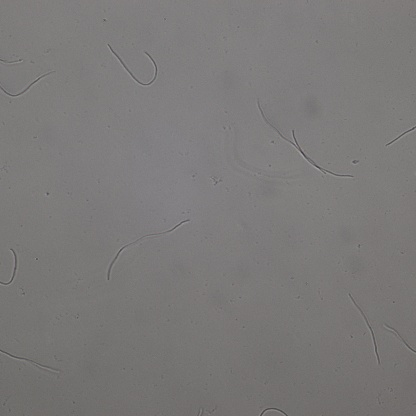Sensitive: (257, 99, 353, 179), (106, 219, 190, 280), (350, 294, 380, 363), (108, 45, 158, 86), (1, 349, 59, 373), (1, 72, 55, 97), (1, 248, 20, 286), (386, 127, 416, 146), (258, 407, 286, 416)
